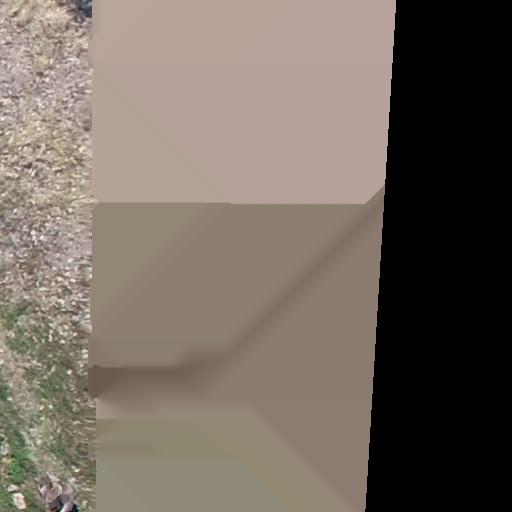stone: (10, 495, 28, 510), (7, 483, 19, 493)
